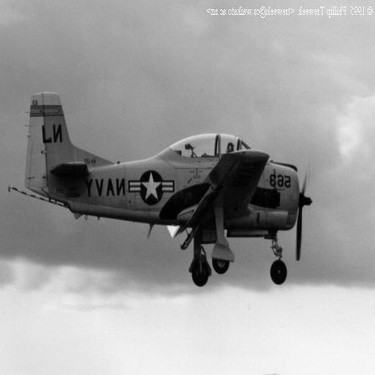airplane: (3, 73, 324, 306)
